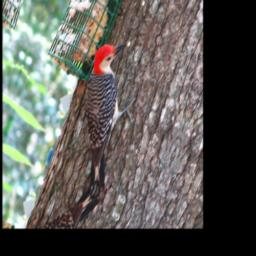Woodpecker: (57, 24, 157, 199)
